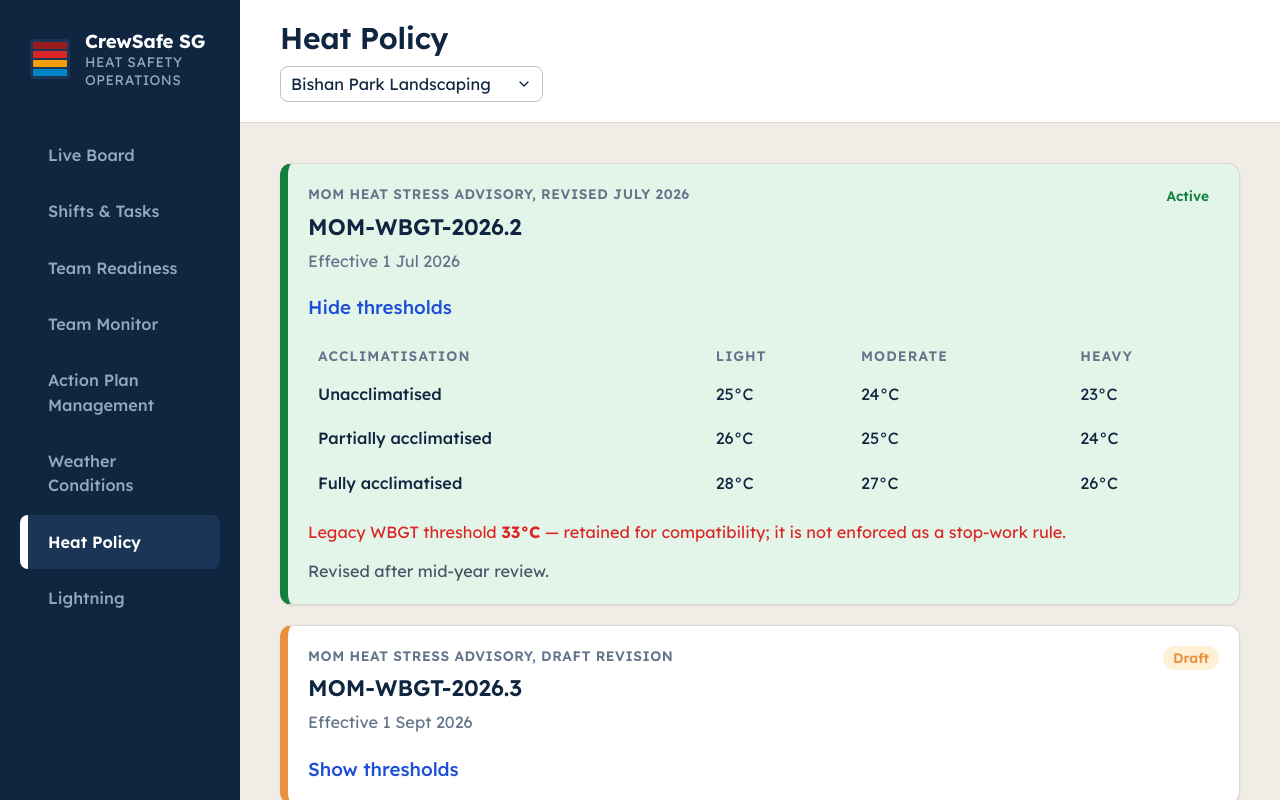
it: PolicyVersionList › lets a multi-site user switch sites, loading that site's own catalogue
This screenshot has width=1280, height=800.
Expected: the text "MOM-WBGT-2026.2" is shown, [308, 212, 522, 241]
Select "NUS Campus Maintenance" in the dropdown named "Site" at x=412, y=84, box [280, 66, 543, 102]
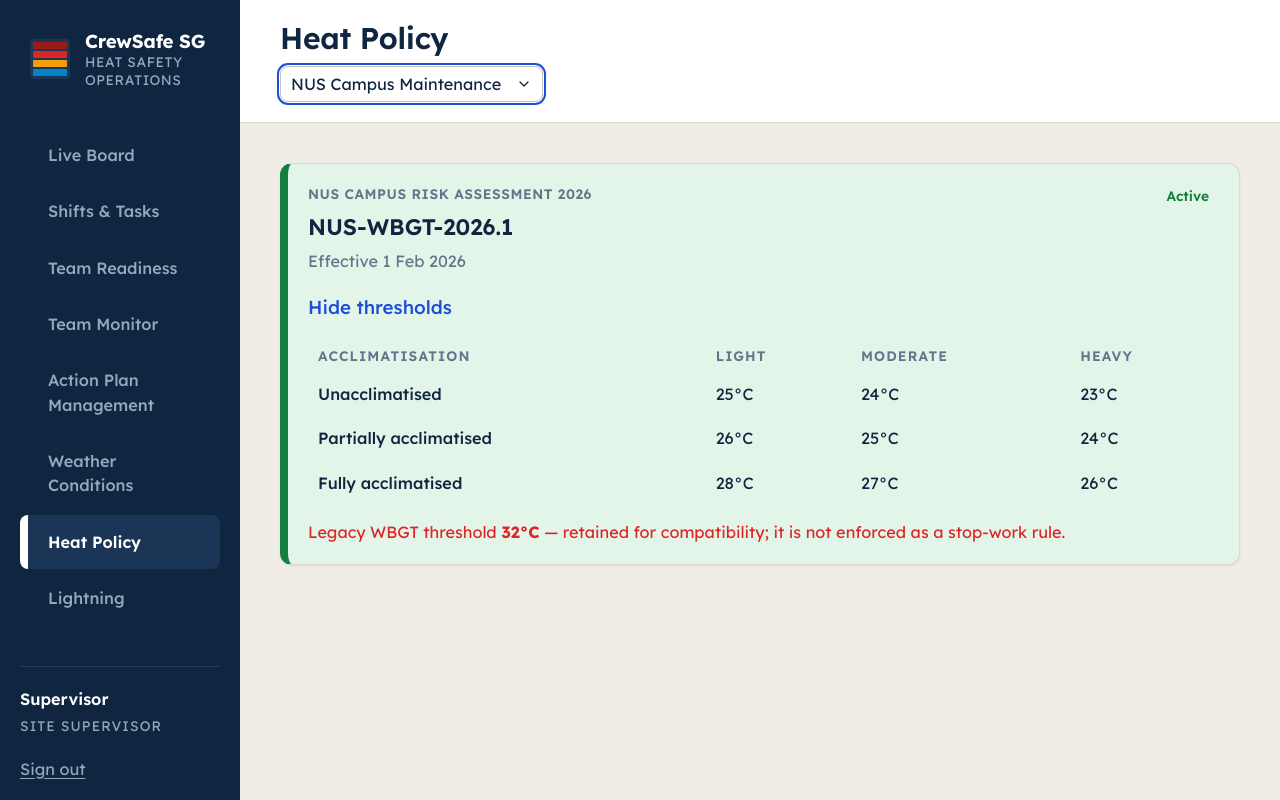
Expected: the text "NUS-WBGT-2026.1" is shown, [308, 212, 513, 241]
Expected: the text "MOM-WBGT-2026.2" is gone
